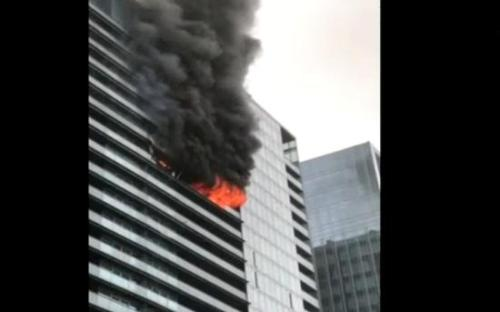fire: (203, 178, 244, 205)
yanwu: (138, 1, 248, 165)
